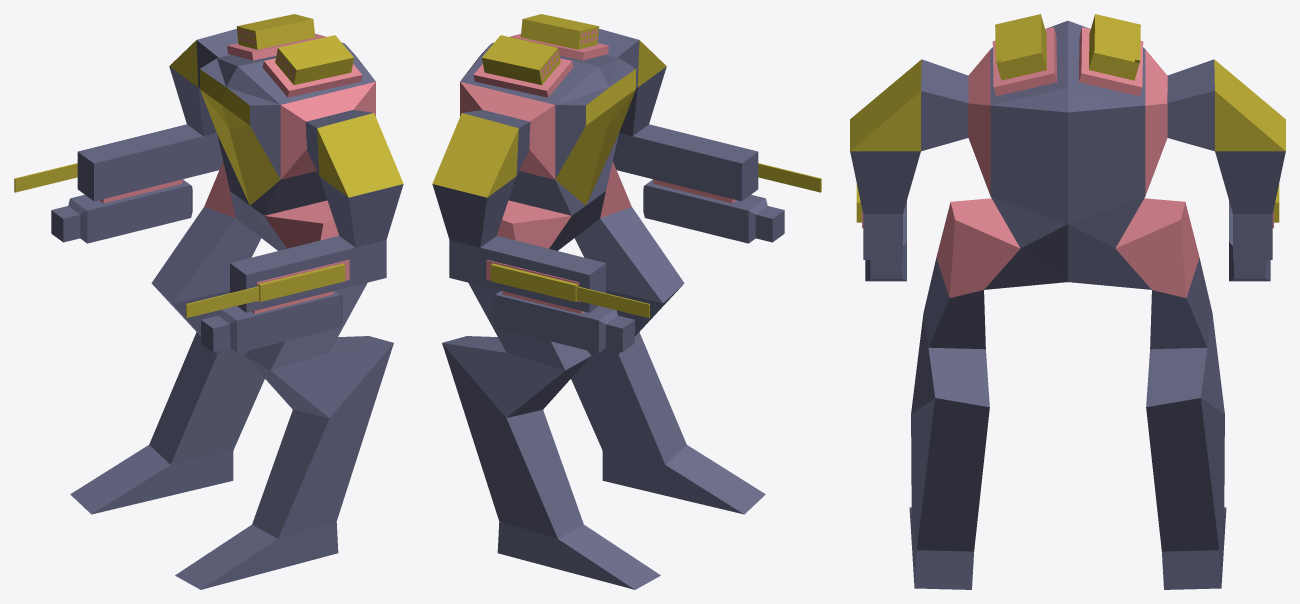
File: Mech_0_3.fbx
3 views of the same model, side by side, from view 1: azimuth 30°, elevation 25°; view 2: azimuth 150°, elevation 25°; view 3: azimuth 270°, elevation 25° (orthographic). The views are drawn at different scales.
Parts seen in each view (by area): view 1: Cube, Cube.001; view 2: Cube, Cube.001; view 3: Cube, Cube.001.
Part boxes in pixels (x1,y1,x2,y2): Cube: (70,14,393,589); Cube.001: (14,28,403,353); Cube: (442,14,765,589); Cube.001: (432,28,821,353); Cube: (909,14,1226,589); Cube.001: (850,59,1285,281).
Bounding box in the file's own units: 956 × 1692 × 1165.
